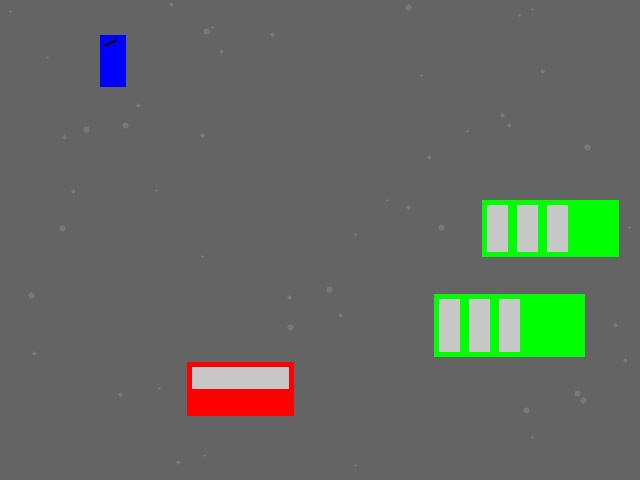bus: (434, 294, 584, 356), (482, 200, 618, 256)
car: (187, 362, 293, 415)
motorcycle: (100, 35, 125, 86)
